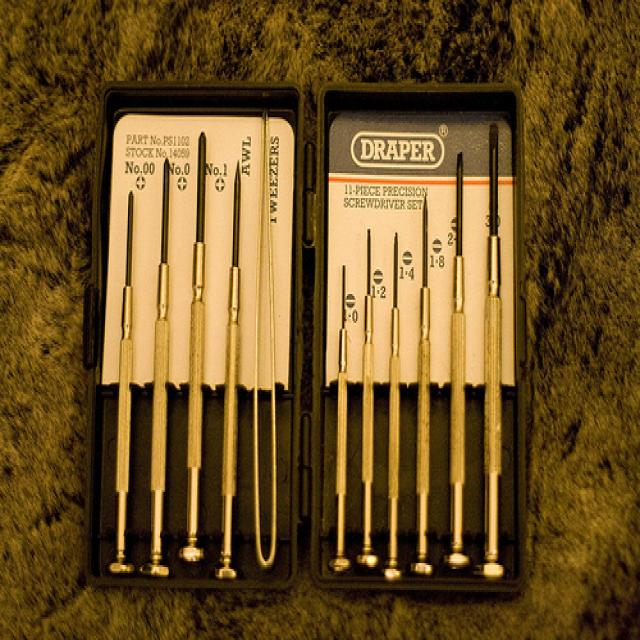screw driver: (477, 113, 511, 590), (105, 177, 139, 591), (180, 119, 210, 573)
